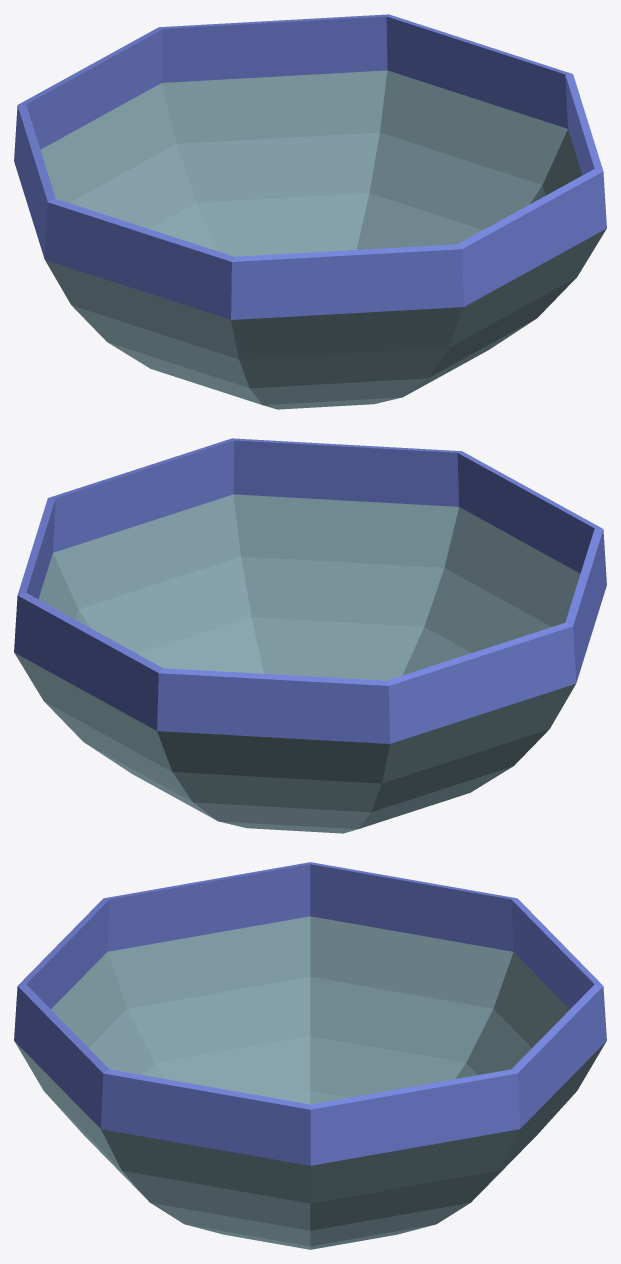
File: SL_Vase2.fbx
3 renders of one model, top to bottom at view 1: azimuth 30°, elevation 25°; view 2: azimuth 150°, elevation 25°; view 3: azimuth 270°, elevation 25°, orthographic. The views are drawn at different scales.
Visible parts, largest first — view 1: Jarron4; view 2: Jarron4; view 3: Jarron4.
Part boxes in pixels (left/top/right/bottom): Jarron4: left=14, top=14, right=606, bottom=409; Jarron4: left=14, top=438, right=606, bottom=833; Jarron4: left=14, top=862, right=606, bottom=1249.
Bounding box in the file's own units: 154 × 61.14 × 154.
